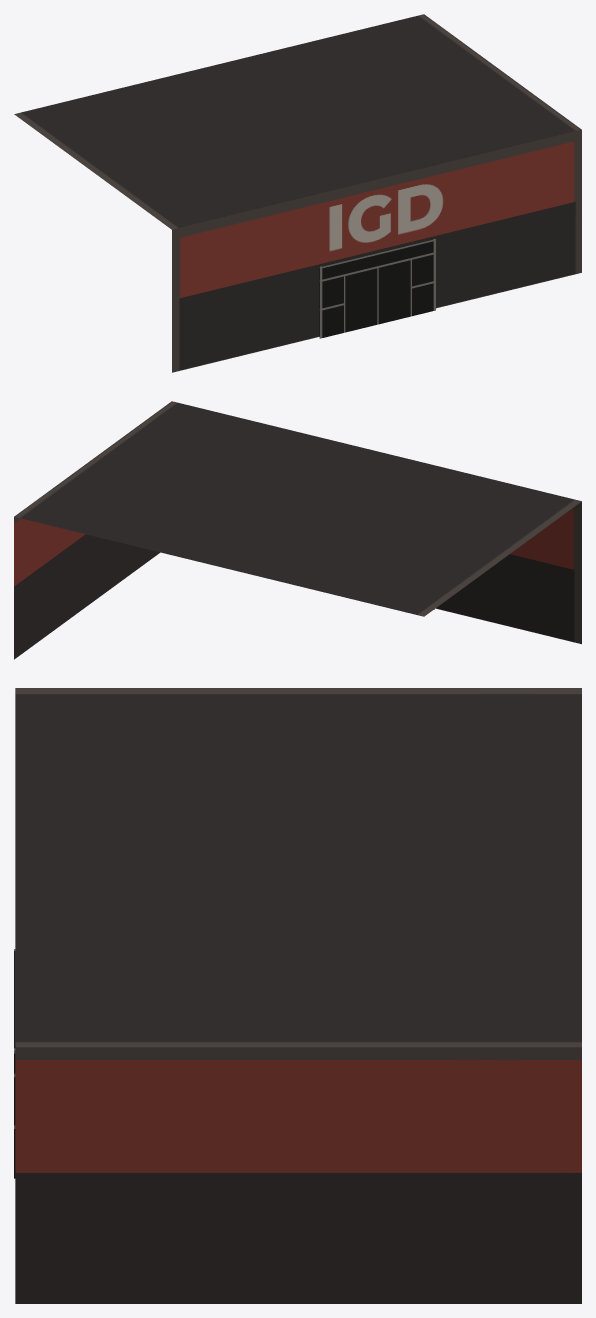
The model's file is SM_IGD.fbx.
The picture shows the model from 3 angles, top to bottom: view 1: azimuth 30°, elevation 25°; view 2: azimuth 150°, elevation 25°; view 3: azimuth 270°, elevation 25°; orthographic projection. The views are drawn at different scales.
Visible parts, largest first — view 1: Cube.072, Cube.031; view 2: Cube.072; view 3: Cube.072.
Part boxes in pixels (x1,y1,x2,y2): Cube.072: (14,14,581,372); Cube.031: (319,238,435,338); Cube.072: (14,401,581,659); Cube.072: (15,688,581,1303).
Size of the model in its own units: 1200 by 405 by 802.
3 materials, 1 textured.
